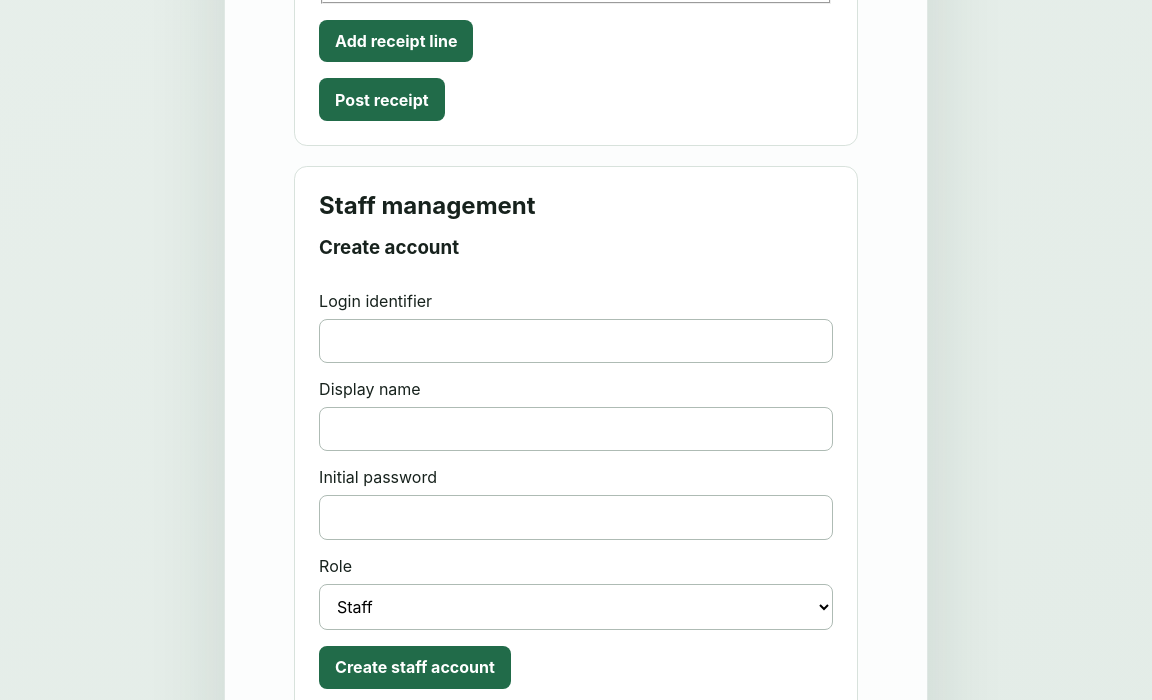
staff management › shows staff management only to administrators and supports create and update
(page scrolled)
Expected: the heading "Staff management" is shown, [319,191,536,220]
In the field labelled "Login identifier": (576, 341) [319,319,833,363], type "staff@example.com"
In the field labelled "Display name": (576, 429) [319,407,833,452], type "Warehouse Staff"
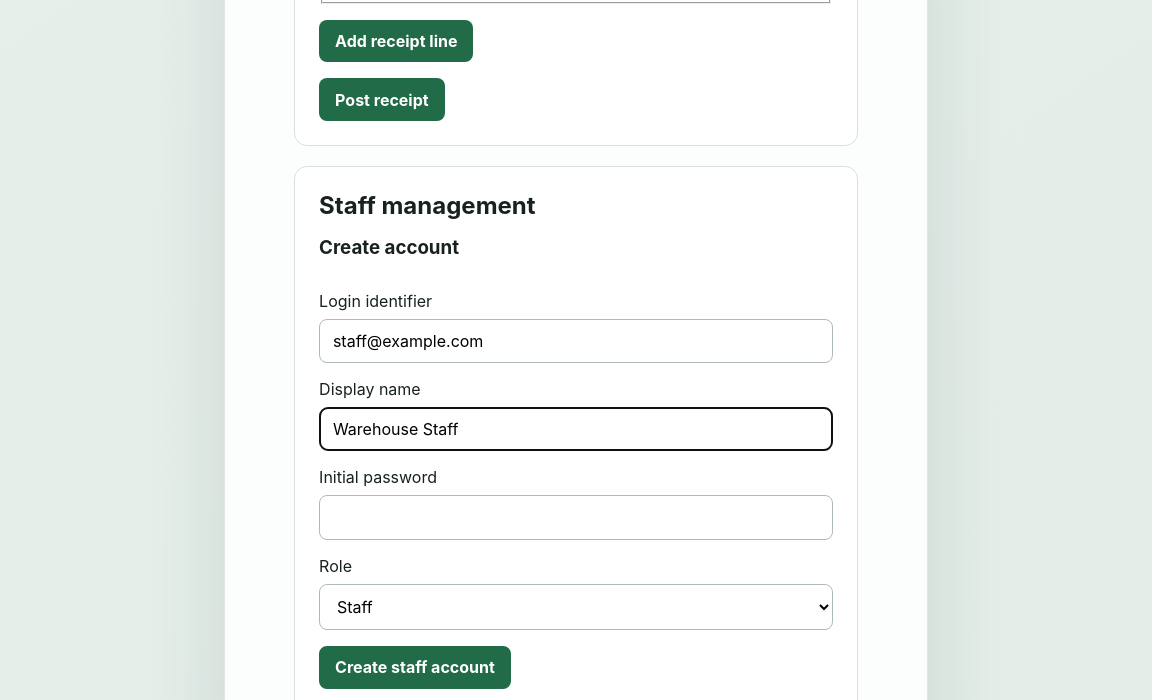
In the password field labelled "Initial password": (576, 518) [319,496,833,540], type "staff initial password"
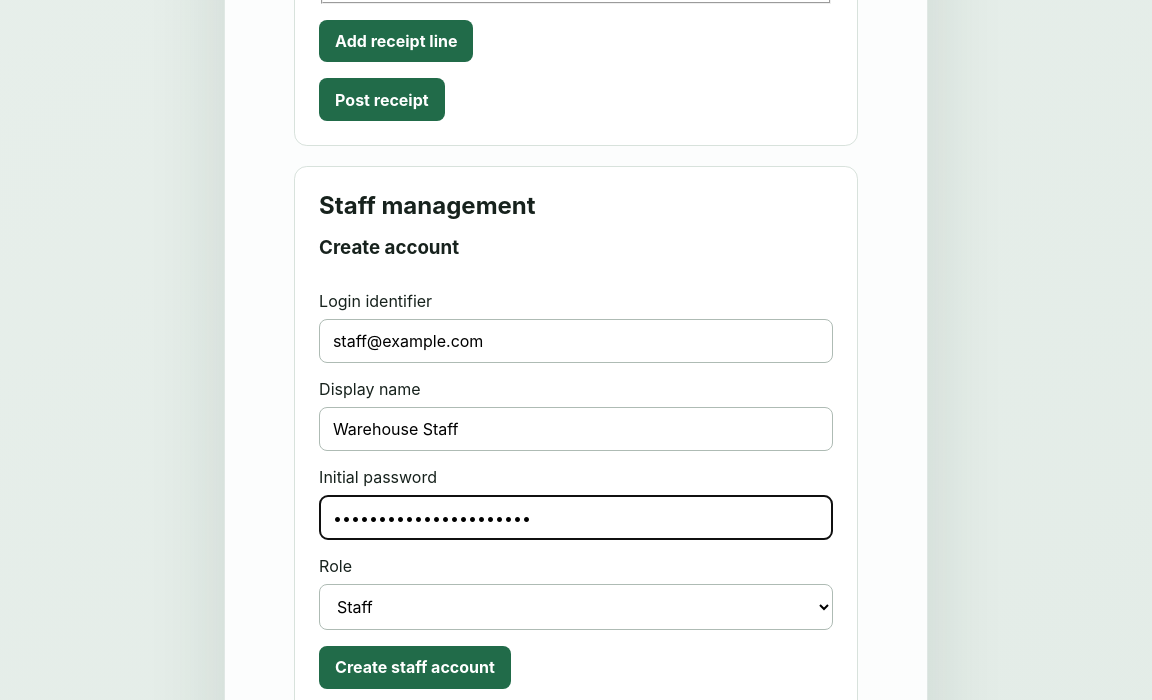
Click the button "Create staff account": (415, 667) [319,646,511,689]
(page scrolled)
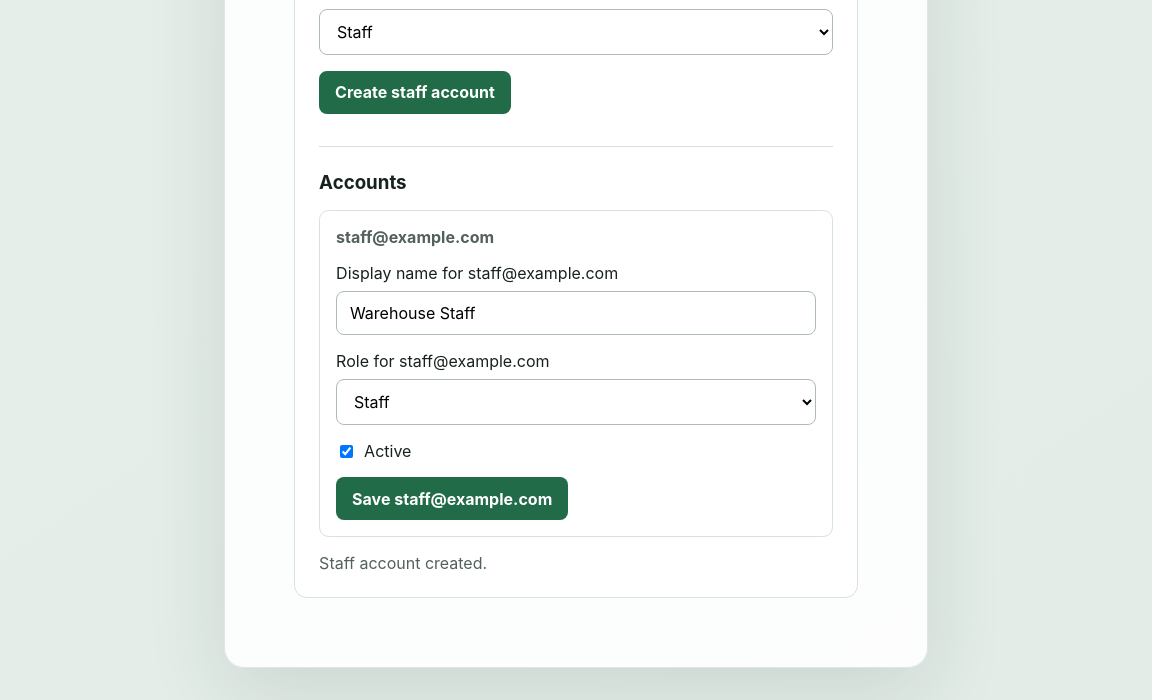
Now the text "Staff account created." is shown, box [319,553,487,573]
Select "Administrator" in the dropdown labelled "Role for staff@example.com": (576, 402) [336,379,816,425]
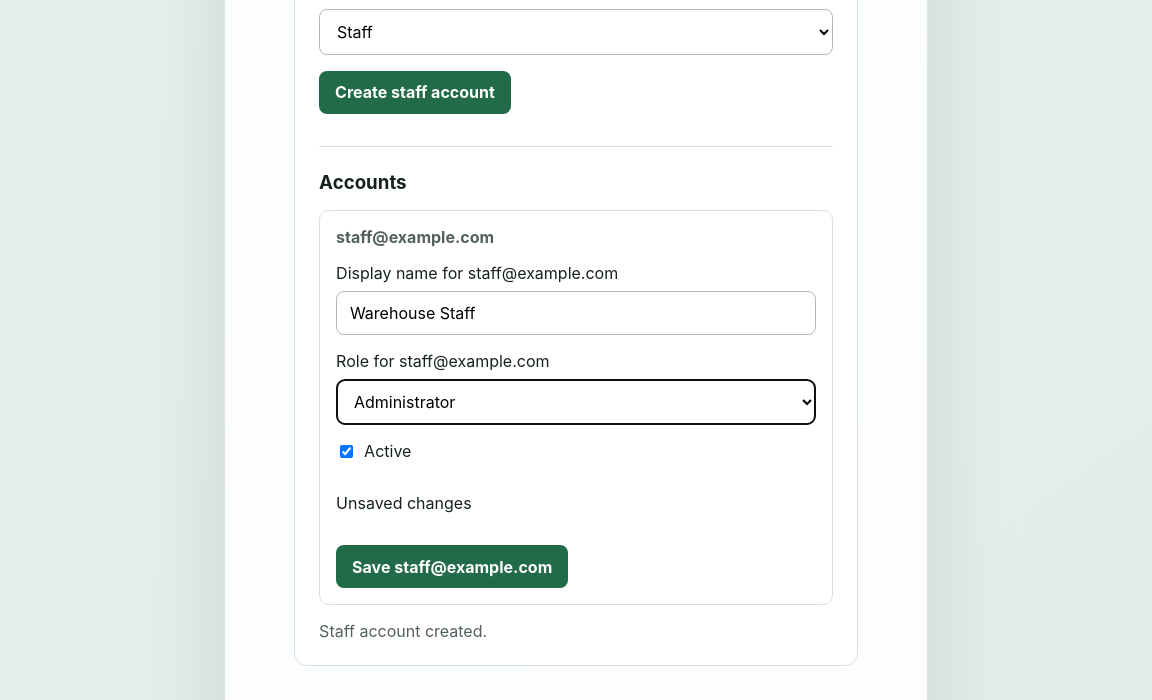
Click the checkbox labelled "Active": (347, 451) [340,445,353,458]
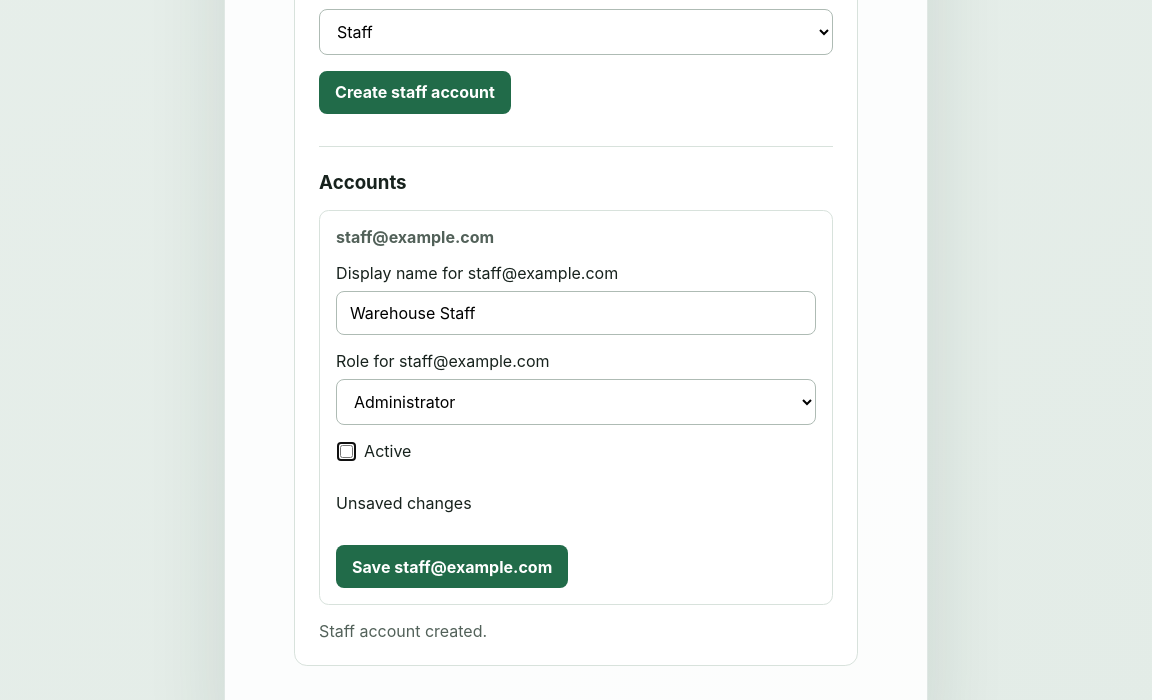
Now the text "Unsaved changes" is shown, box [336,493,472,513]
Click the button "Save staff@example.com": (452, 567) [336,545,568,588]
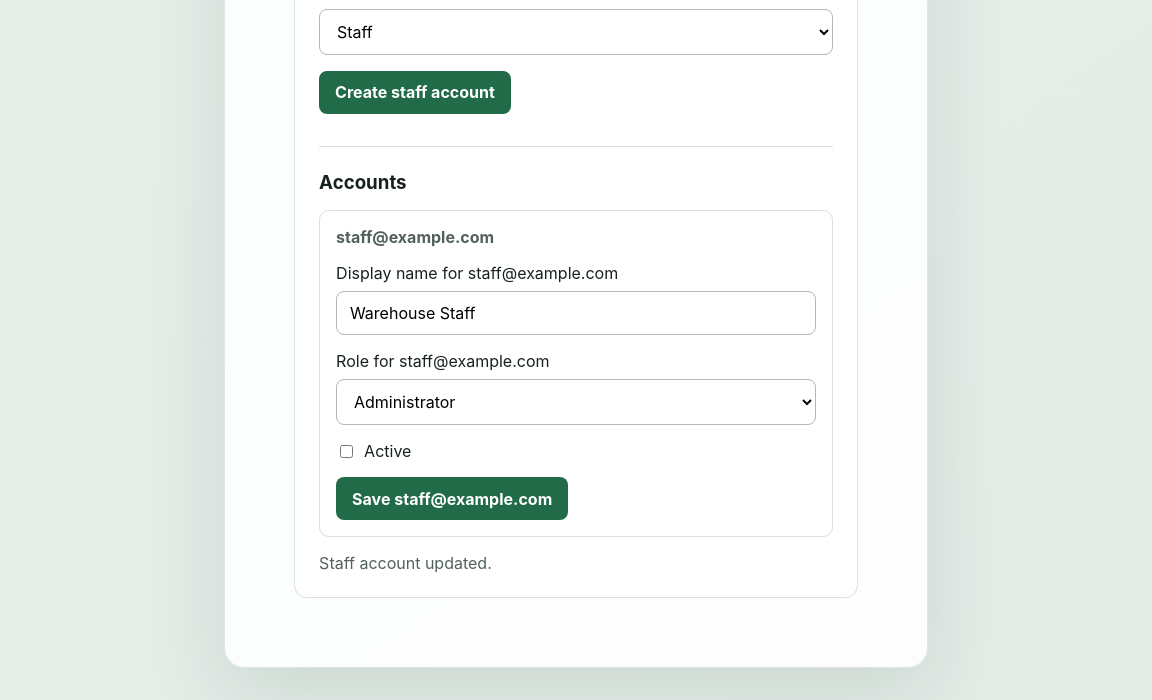
Now the text "Staff account updated." is shown, box [319,553,492,573]
Now the text "Unsaved changes" is gone
